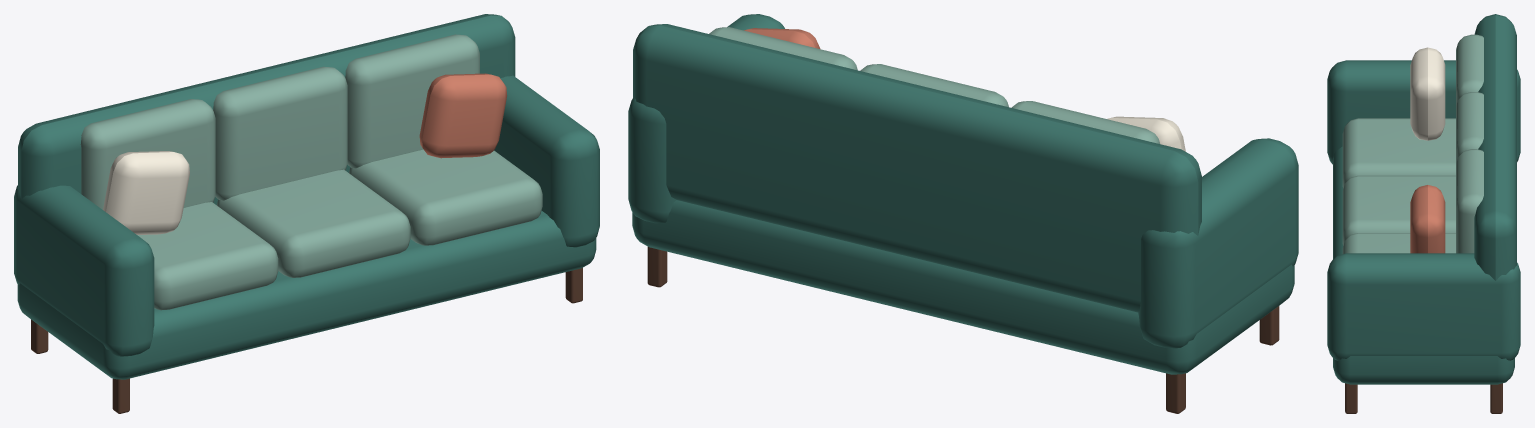
Rendered from sofa.glb.
3 renders of one model, left to right at view 1: azimuth 30°, elevation 25°; view 2: azimuth 150°, elevation 25°; view 3: azimuth 270°, elevation 25°, orthographic. The views are drawn at different scales.
Visible parts, largest first — view 1: Sofa base, Rounded arm, Back cushion.001, Seat cushion.001, Upholstered back, Seat cushion.002, Back cushion.002, Rounded arm.001, Seat cushion, Back cushion, Linen scatter cushion.001, Linen scatter cushion (+2 smaller); view 2: Upholstered back, Sofa base, Rounded arm, Rounded arm.001, Back cushion.001, Back cushion.002, Back cushion, Linen scatter cushion, Tapered leg.002, Tapered leg, Linen scatter cushion.001, Tapered leg.001; view 3: Rounded arm.001, Upholstered back, Rounded arm, Sofa base, Seat cushion, Seat cushion.001, Linen scatter cushion, Back cushion.002, Linen scatter cushion.001, Seat cushion.002, Back cushion, Back cushion.001 (+2 smaller).
Part boxes in pixels (box(x1,y1,x2,y2)): Sofa base: box(17, 210, 596, 379); Rounded arm: box(14, 185, 154, 356); Back cushion.001: box(213, 66, 347, 200); Seat cushion.001: box(217, 169, 410, 277); Upholstered back: box(18, 14, 515, 204); Seat cushion.002: box(349, 149, 542, 245); Back cushion.002: box(345, 34, 479, 168); Rounded arm.001: box(494, 75, 599, 247); Seat cushion: box(137, 202, 278, 310); Back cushion: box(80, 99, 215, 209); Linen scatter cushion.001: box(419, 73, 507, 158); Linen scatter cushion: box(103, 151, 189, 234); Upholstered back: box(633, 24, 1201, 312); Sofa base: box(632, 200, 1294, 374); Rounded arm: box(1138, 138, 1298, 348); Rounded arm.001: box(628, 14, 784, 223); Back cushion.001: box(860, 64, 1008, 107); Back cushion.002: box(709, 27, 857, 70); Back cushion: box(1011, 101, 1159, 143); Linen scatter cushion: box(1107, 116, 1185, 151); Tapered leg.002: box(647, 247, 667, 287); Tapered leg: box(1166, 373, 1185, 413); Linen scatter cushion.001: box(744, 28, 820, 48); Tapered leg.001: box(1259, 306, 1279, 345); Rounded arm.001: box(1327, 253, 1520, 360); Upholstered back: box(1474, 14, 1516, 280); Rounded arm: box(1327, 60, 1520, 164); Sofa base: box(1333, 146, 1514, 384); Seat cushion: box(1342, 118, 1455, 188); Seat cushion.001: box(1342, 175, 1455, 245); Linen scatter cushion: box(1410, 47, 1445, 140); Back cushion.002: box(1456, 149, 1483, 253); Linen scatter cushion.001: box(1410, 185, 1445, 253); Seat cushion.002: box(1342, 233, 1455, 253); Back cushion: box(1456, 34, 1483, 106); Back cushion.001: box(1456, 92, 1483, 163).
Size of the model in its own units: 2.61 by 1.14 by 1.
